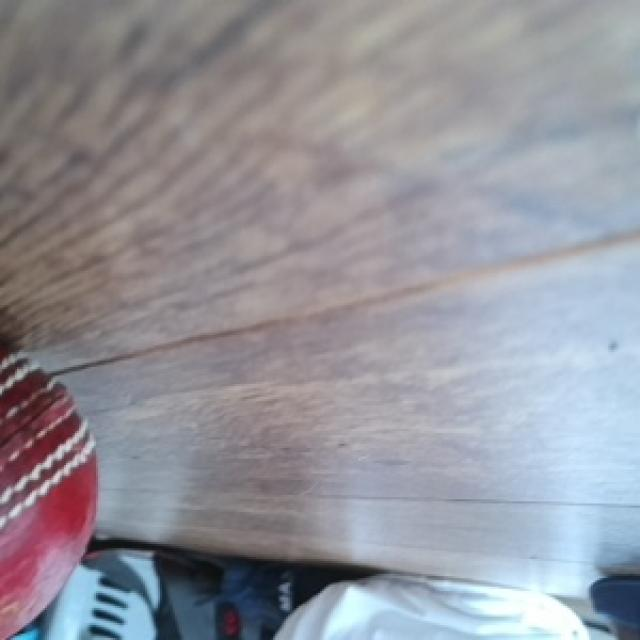ball: (0, 337, 100, 640)
